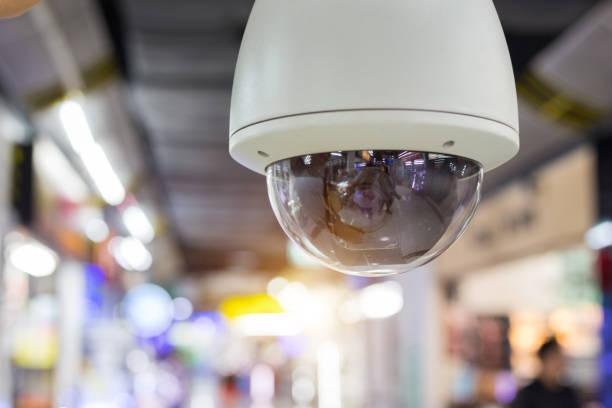camera: (219, 0, 530, 290)
